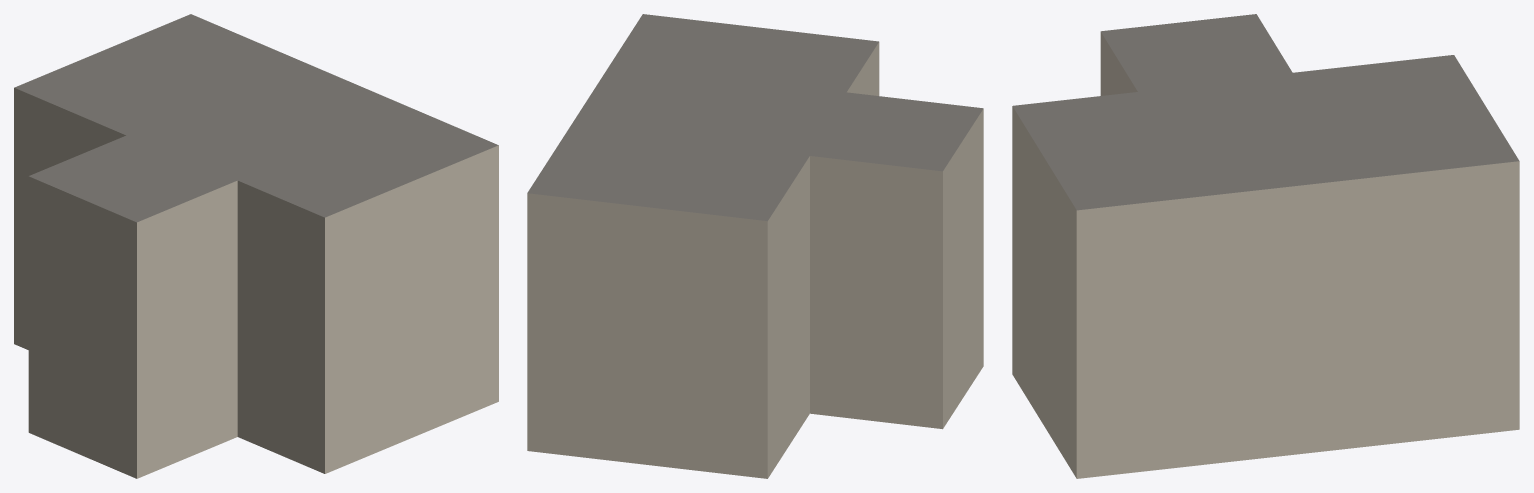
The picture shows the model from 3 angles, left to right: view 1: azimuth 30°, elevation 25°; view 2: azimuth 150°, elevation 25°; view 3: azimuth 270°, elevation 25°; orthographic projection. The views are drawn at different scales.
Visible parts, largest first — view 1: HP-w447017704; view 2: HP-w447017704; view 3: HP-w447017704.
Part boxes in pixels (left/top/right/bottom): HP-w447017704: left=14, top=14, right=498, bottom=478; HP-w447017704: left=527, top=14, right=983, bottom=478; HP-w447017704: left=1012, top=14, right=1519, bottom=478.
Bounding box in the file's own units: 28.23 × 18 × 30.81.
